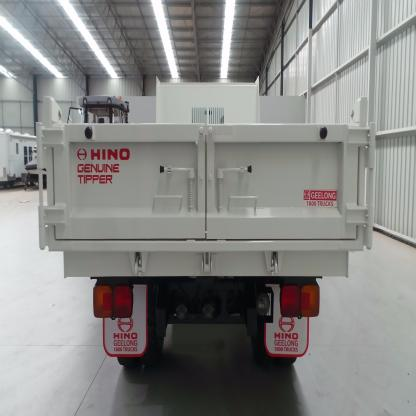dump_truck: (36, 59, 385, 376)
